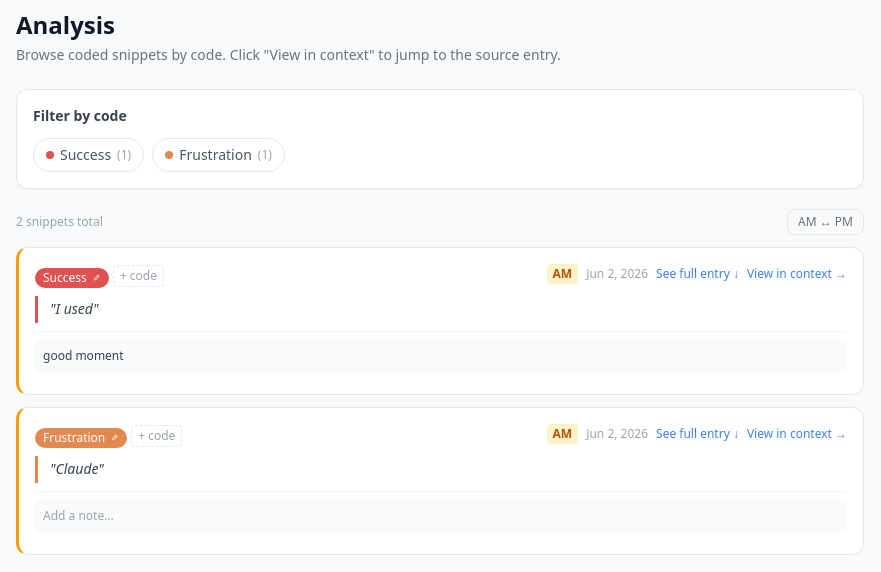
Test: AnalysisView – basic filtering › filters snippets when a code is selected
The width and height of the screenshot is (881, 572).
Click the button "Success (1)" at (89, 155), box [33, 138, 144, 172]
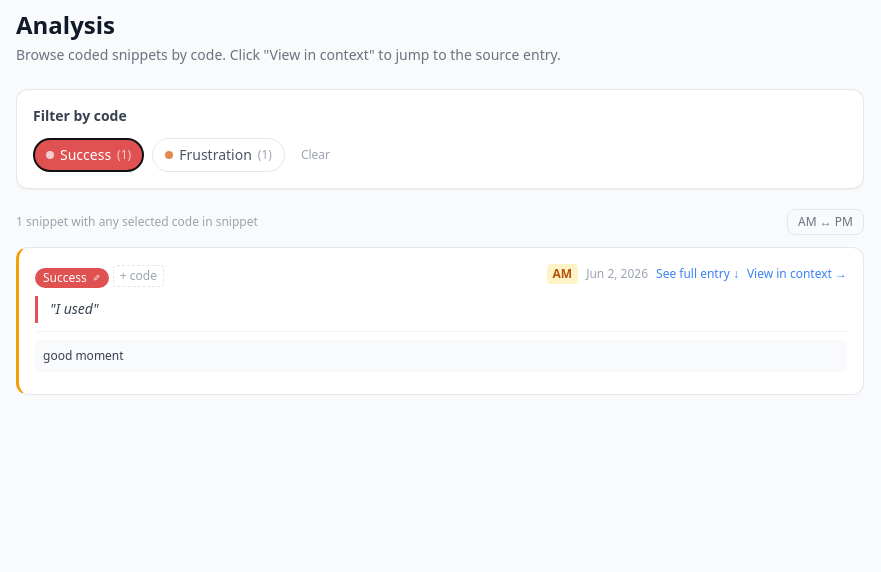
Check: the text "\"I used\"" is shown, box [35, 296, 847, 323]
Check: the text "\"Claude\"" is gone
